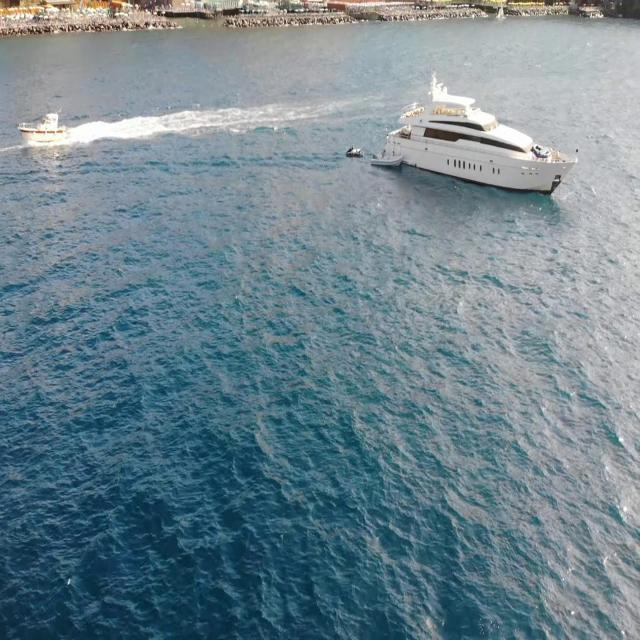boat: (386, 70, 577, 200), (14, 102, 70, 144), (374, 144, 404, 164), (347, 141, 362, 161)
